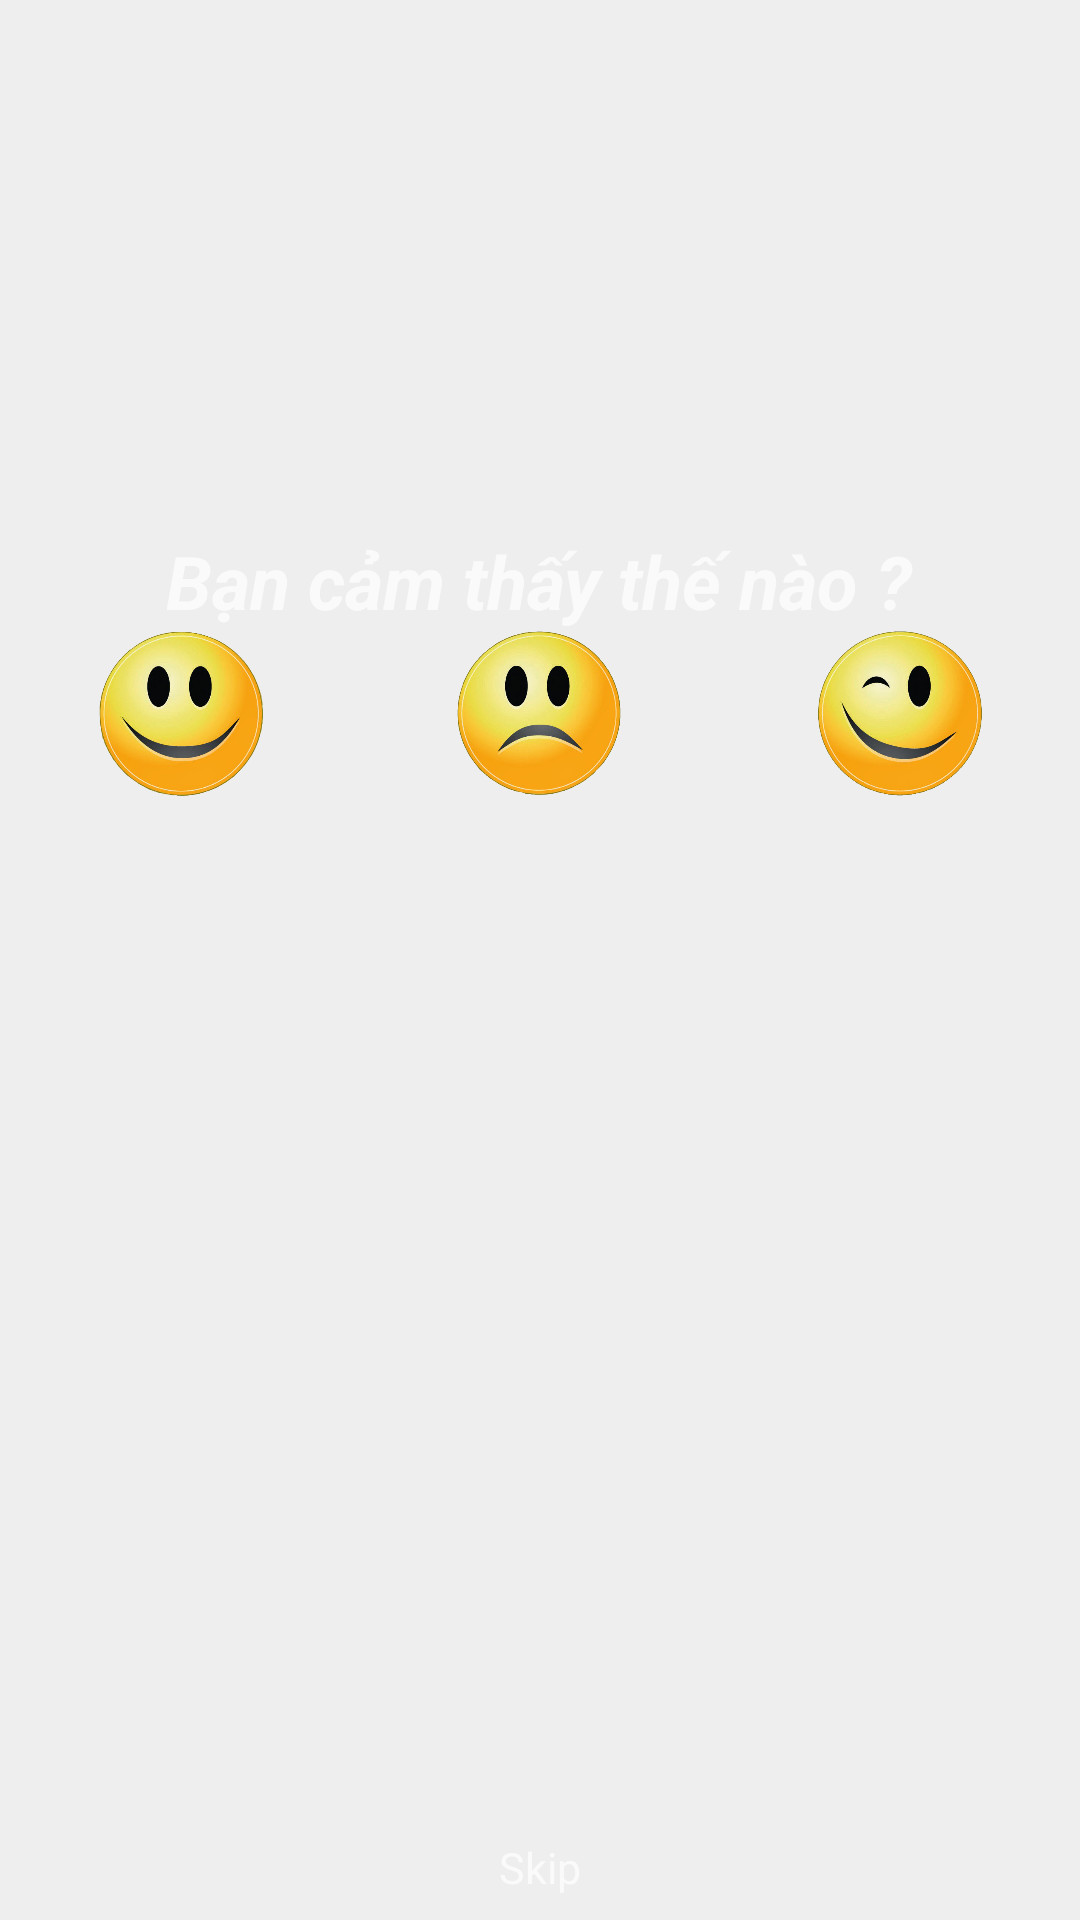

Named icons in this screenshot (1080px x 1920px) and their bounding boxes, (x1, y1, x2, y2):
happy: (99, 632, 263, 796)
sad: (457, 631, 621, 795)
